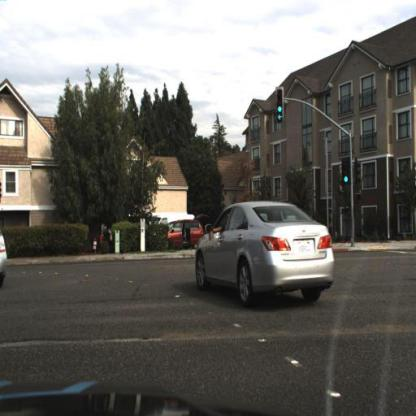car: (196, 200, 339, 307), (161, 217, 204, 250)
trafficLight: (342, 152, 354, 194), (277, 85, 286, 125), (6, 177, 17, 200)
